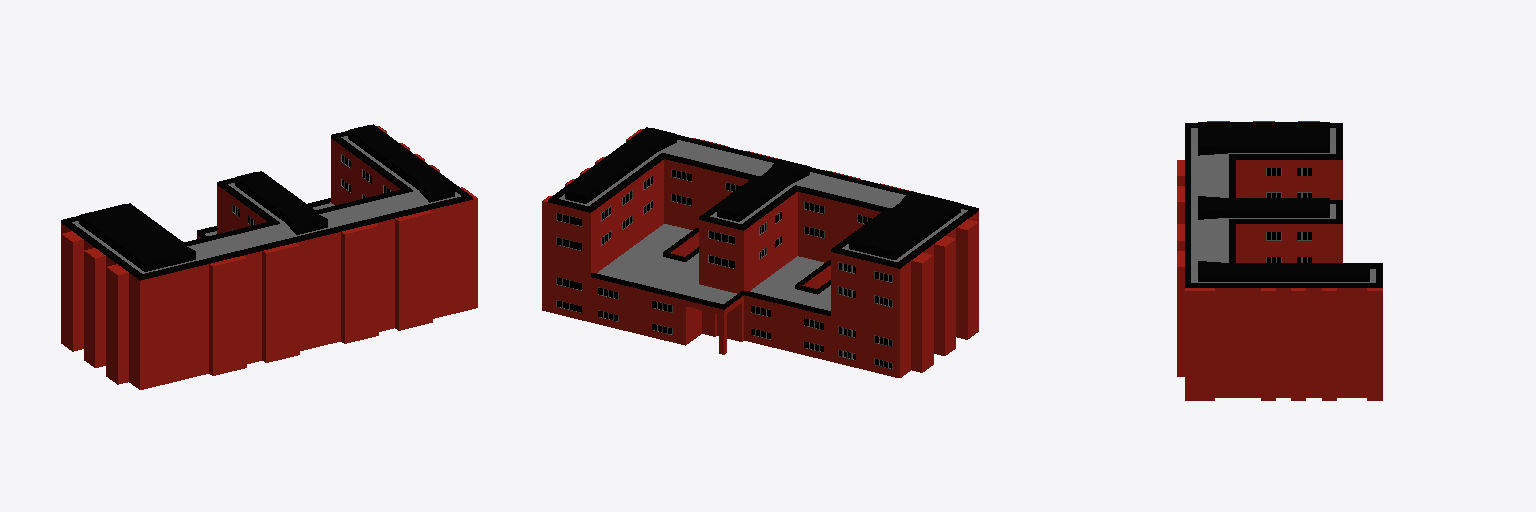
Rendered from Main.obj.
3 renders of one model, left to right at view 1: azimuth 30°, elevation 25°; view 2: azimuth 150°, elevation 25°; view 3: azimuth 270°, elevation 25°, orthographic.
Parts seen in each view (by area): view 1: Box001, Object, Object001; view 2: Box001, Object, Object001, Object004; view 3: Box001, Object, Object001, Object004.
Boxes of the visible parts, x1,y1,x2,y2 form: Box001: [61, 126, 477, 389]; Object: [61, 124, 472, 280]; Object001: [72, 136, 460, 273]; Box001: [542, 129, 978, 377]; Object: [548, 127, 978, 315]; Object001: [556, 140, 967, 369]; Object004: [557, 170, 891, 368]; Box001: [1177, 121, 1382, 400]; Object: [1185, 122, 1382, 287]; Object001: [1191, 128, 1375, 282]; Object004: [1267, 168, 1311, 262].
Bounding box in the file's own units: 144 × 47.06 × 73.22.